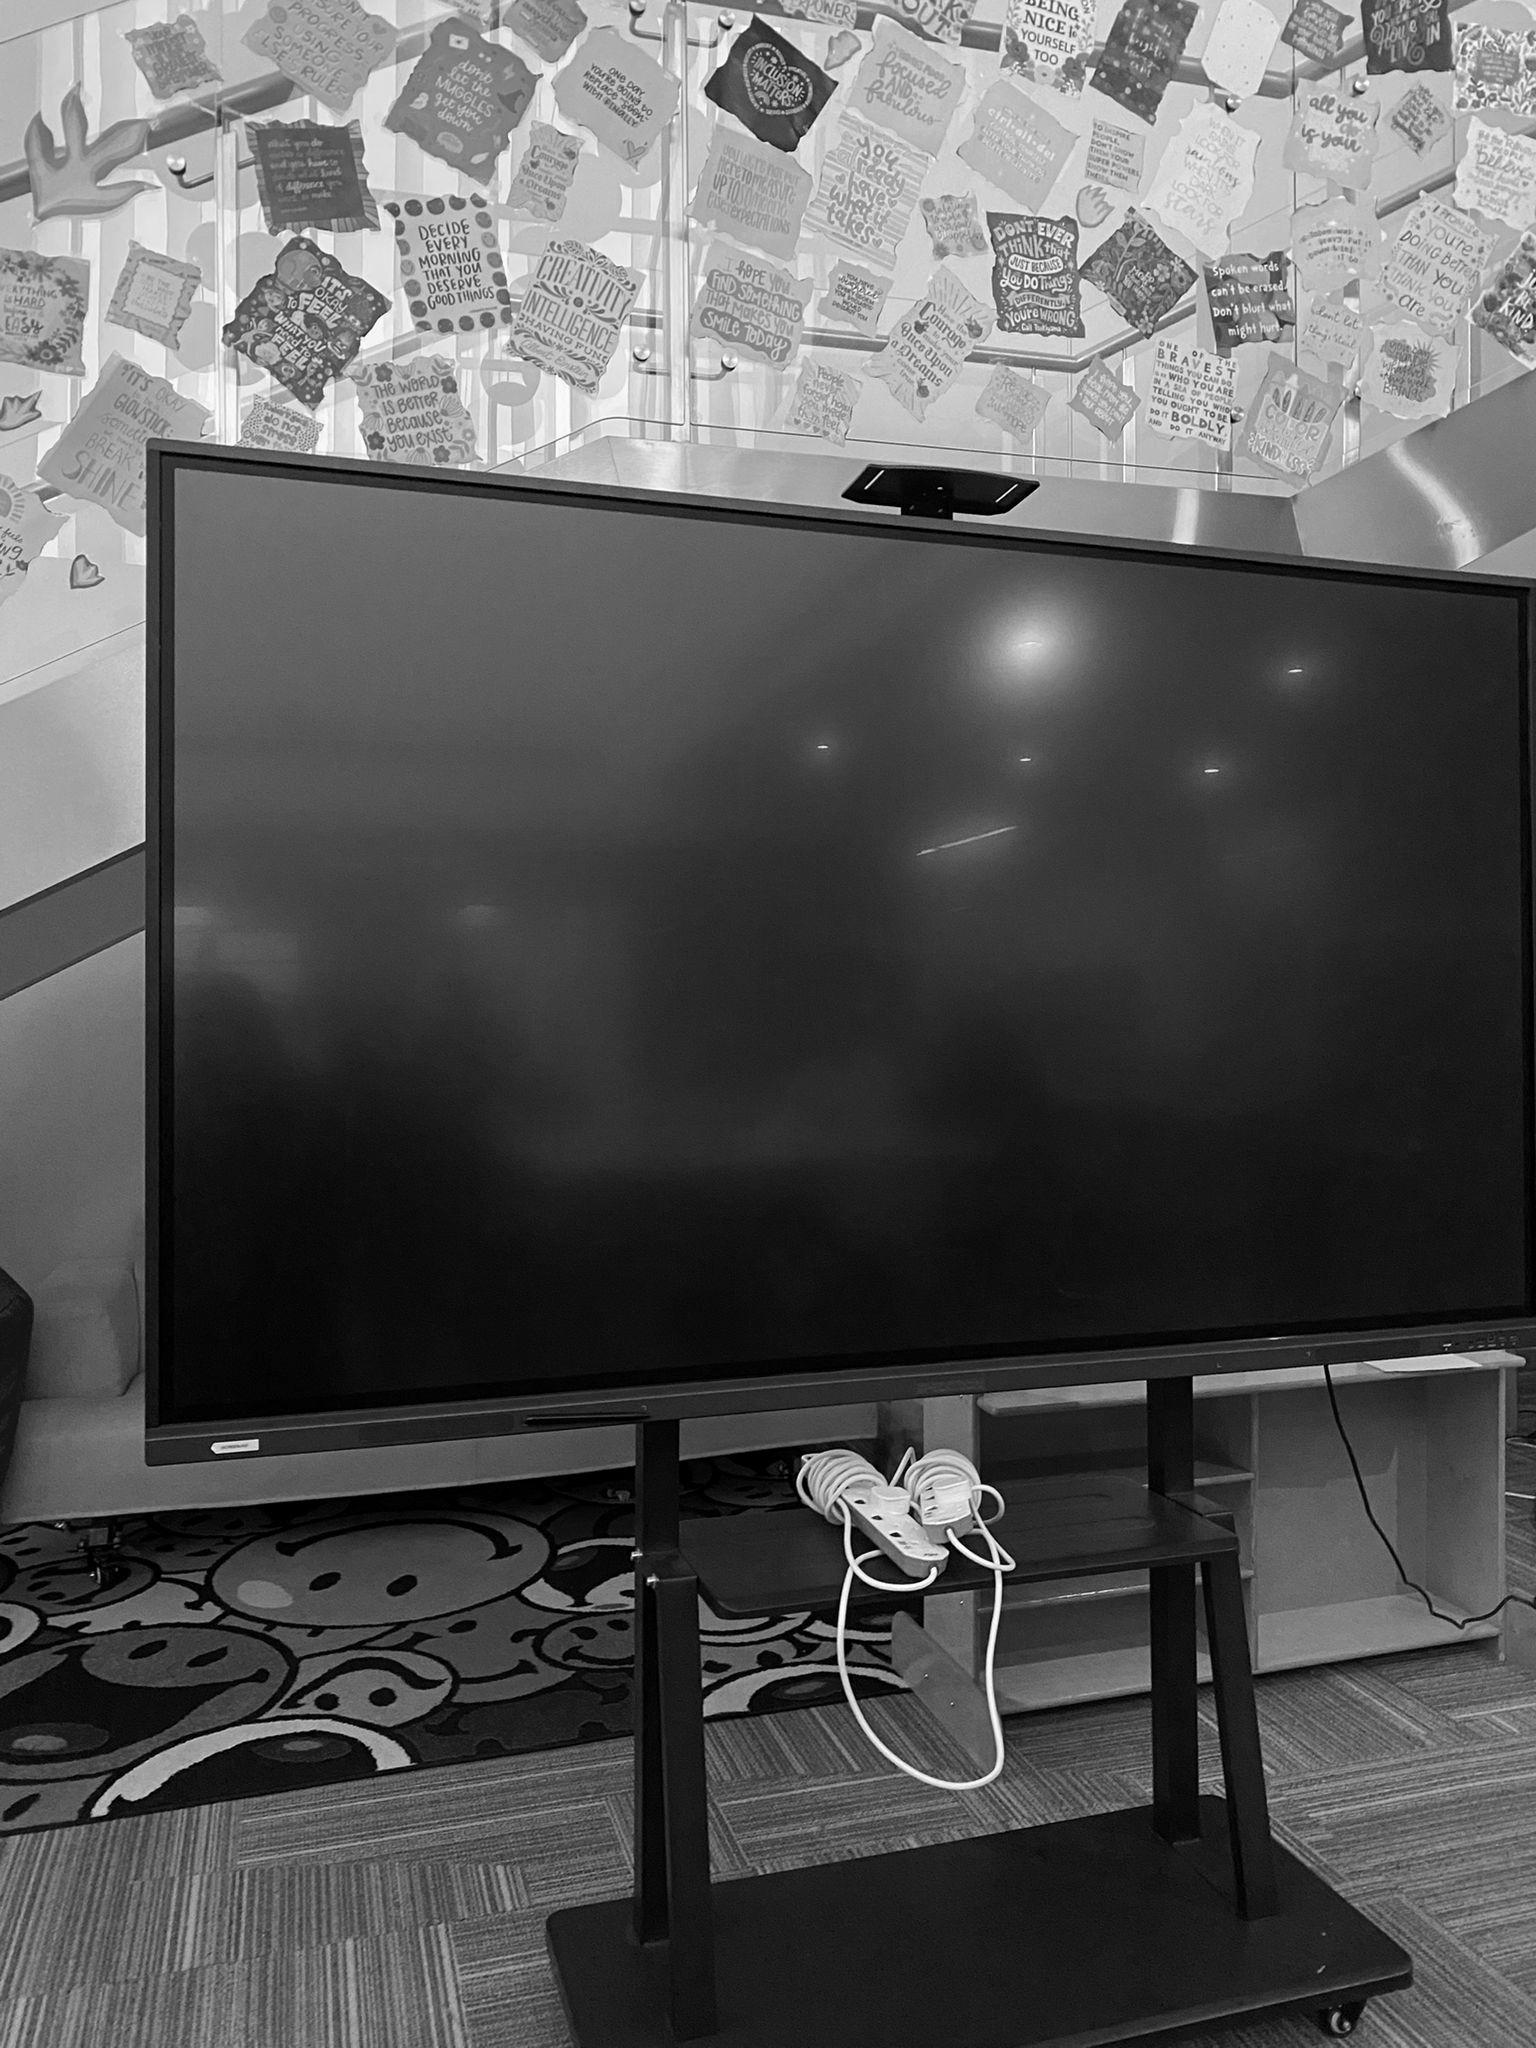Tv: (145, 443, 1534, 1463)
